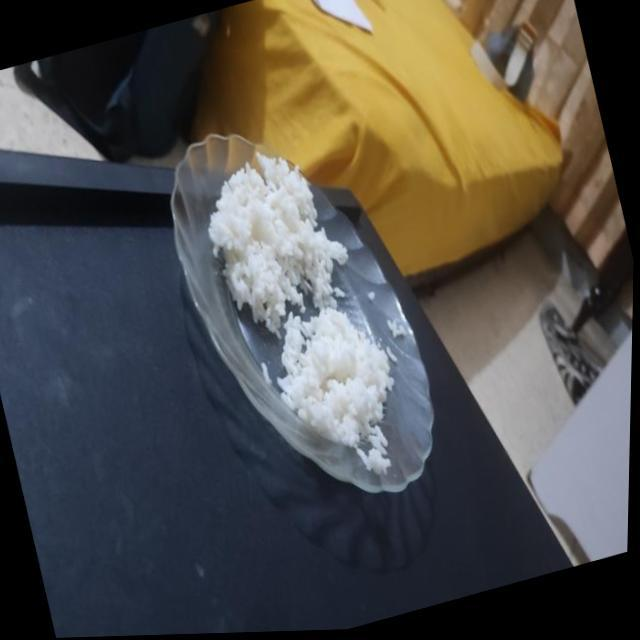nasi_putih: (208, 152, 347, 332), (276, 307, 396, 450)
